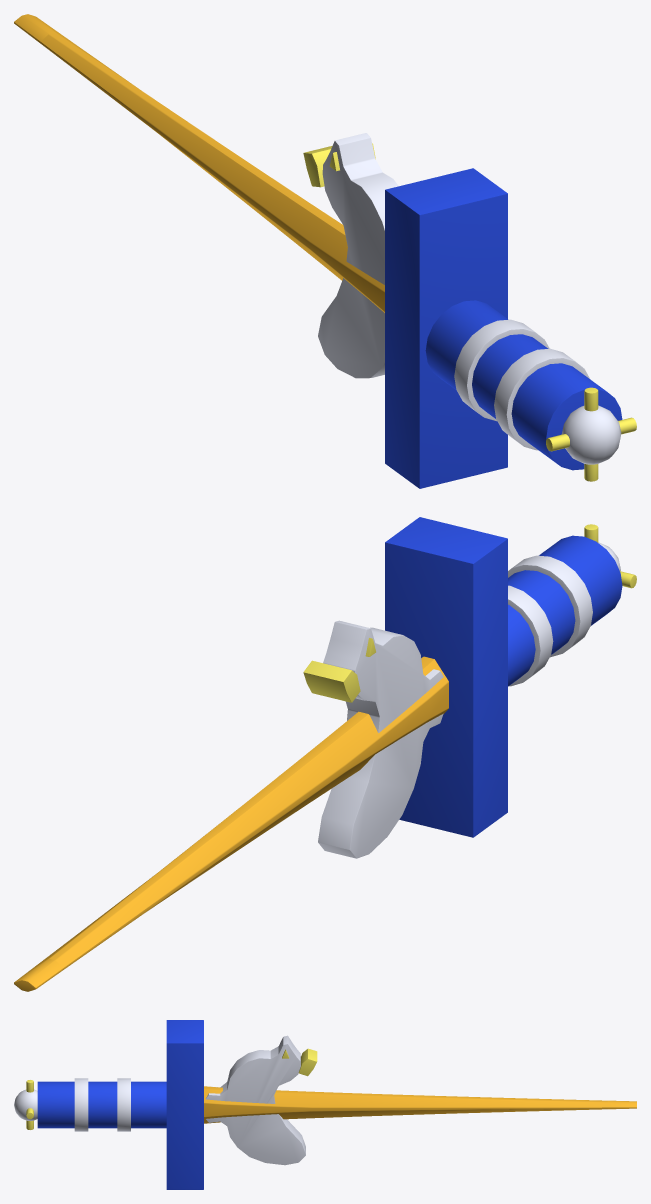
The model's file is Sword_WeathercockEpee.glb.
The picture shows the model from 3 angles, top to bottom: view 1: azimuth 30°, elevation 25°; view 2: azimuth 150°, elevation 25°; view 3: azimuth 270°, elevation 25°; orthographic projection. The views are drawn at different scales.
Parts seen in each view (by area): view 1: Sword_WeathercockEpee; view 2: Sword_WeathercockEpee; view 3: Sword_WeathercockEpee.
Boxes of the visible parts, x1=… form: Sword_WeathercockEpee: x1=14, y1=14, x2=636, y2=488; Sword_WeathercockEpee: x1=14, y1=517, x2=636, y2=991; Sword_WeathercockEpee: x1=14, y1=1020, x2=636, y2=1189.
Size of the model in its own units: 0.088 by 0.26 by 1.
Materials: 1 (1 with a texture image).
